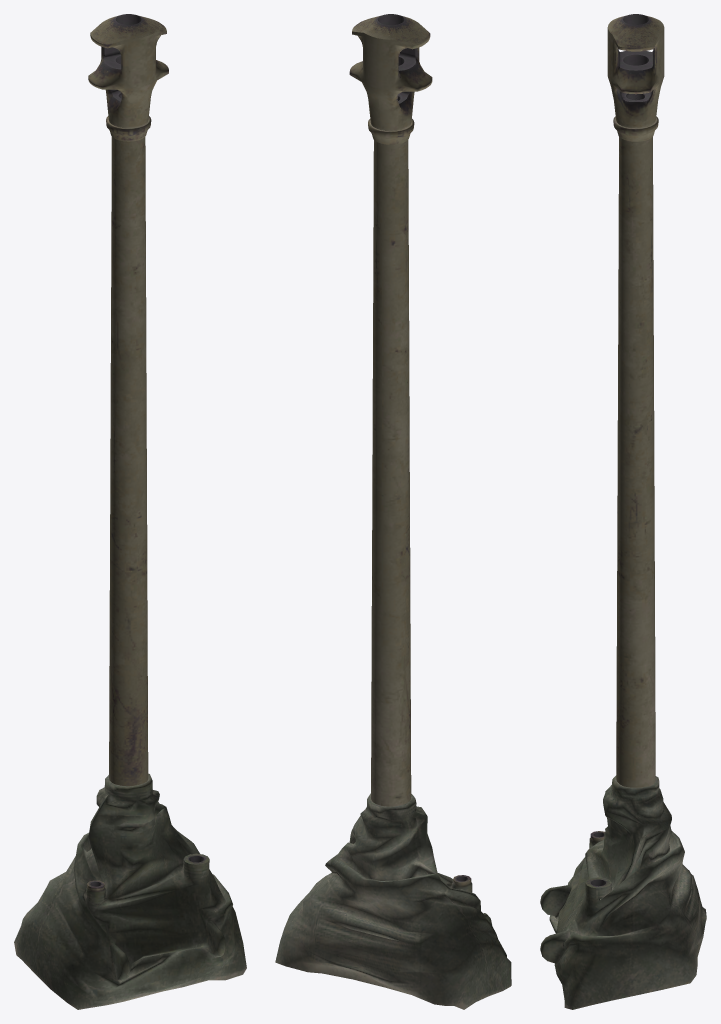
File: Gun_03.glb
3 views of the same model, side by side, from view 1: azimuth 30°, elevation 25°; view 2: azimuth 150°, elevation 25°; view 3: azimuth 270°, elevation 25° (orthographic). The views are drawn at different scales.
Parts seen in each view (by area): view 1: set_0_group_0; view 2: set_0_group_0; view 3: set_0_group_0.
Part boxes in pixels (box(x1,y1,x2,y2)): set_0_group_0: box(14, 14, 246, 1009); set_0_group_0: box(275, 14, 511, 1009); set_0_group_0: box(540, 14, 706, 1009).
Bounding box in the file's own units: 1.27 × 6.02 × 0.9553.
1 material, 1 textured.
